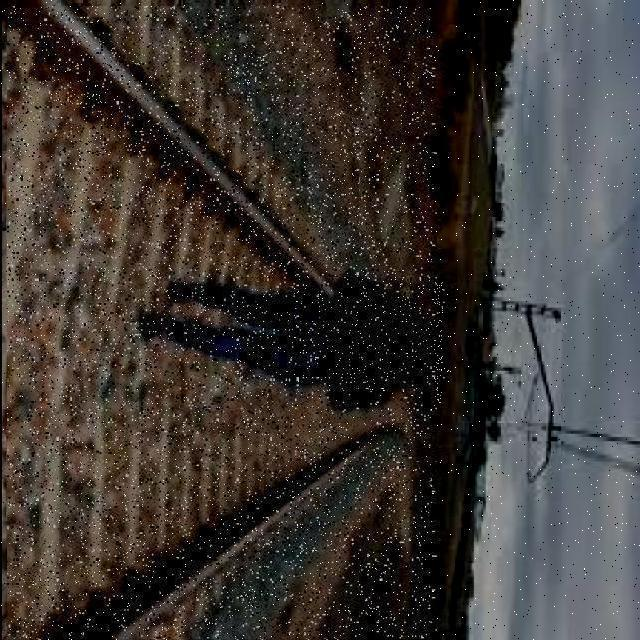rail: (8, 7, 434, 640)
